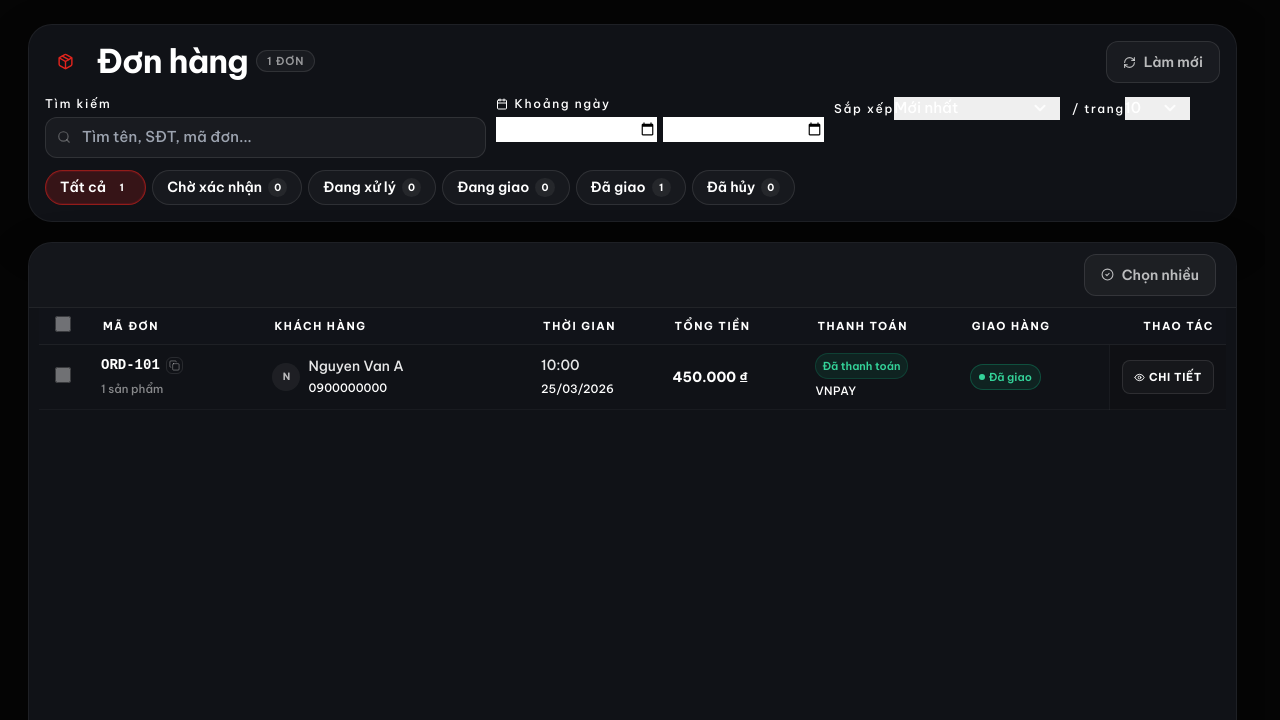
Test: Admin Orders page › keeps selection checkboxes visible and enters bulk mode when a checkbox is clicked
The image size is (1280, 720).
Expected: the column heading "Mã đơn" is shown, [87,308,258,344]
Expected: the checkbox named "Chọn tất cả đơn trên trang hiện tại" is shown, [55,316,71,332]
Click the checkbox named "Chọn đơn ORD-101" at (63, 374), box [55,366,71,382]
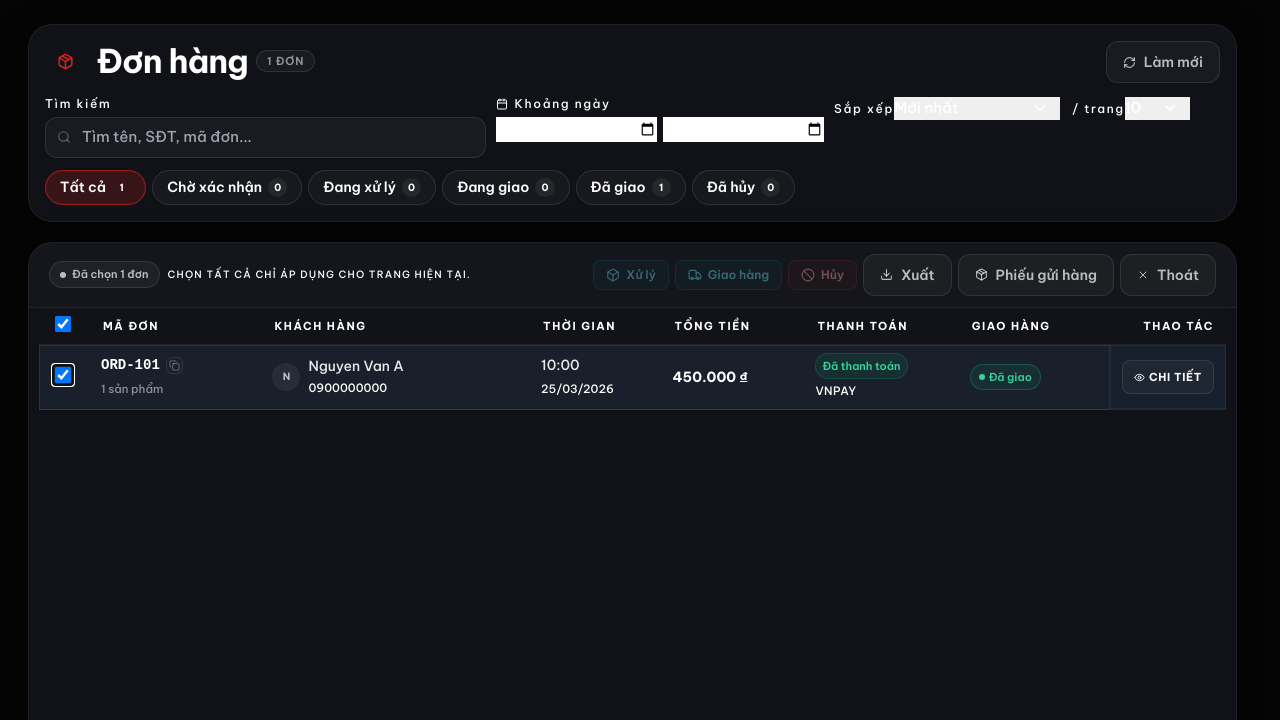
Expected: the text "Đã chọn 1 đơn" is shown, [49,261,160,288]
Expected: the button "Thoát" is shown
Click the button "Thoát" at (1168, 274), box [1120,254,1216,296]
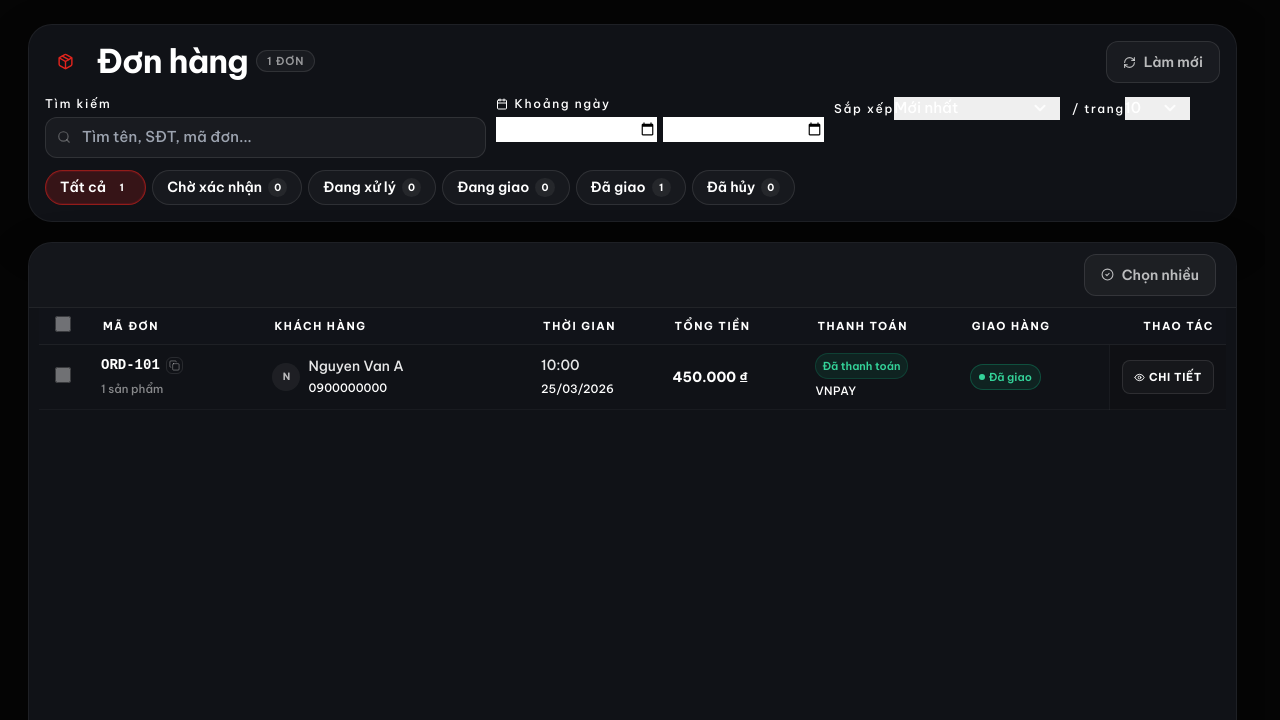
Expected: the checkbox named "Chọn tất cả đơn trên trang hiện tại" is shown, [55,316,71,332]
Expected: the text "Đã chọn 1 đơn" is gone
Expected: the button "Chọn nhiều" is shown, [1084,254,1216,296]
